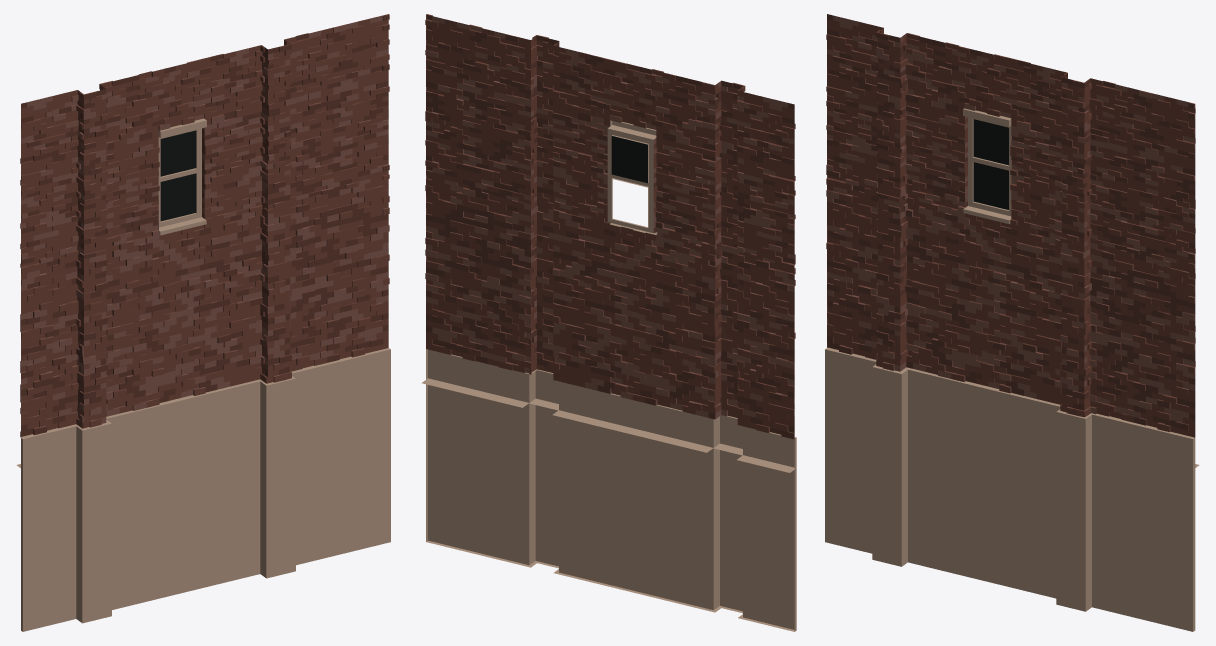
The model's file is ModularWall__Window.fbx.
3 renders of one model, left to right at view 1: azimuth 30°, elevation 25°; view 2: azimuth 150°, elevation 25°; view 3: azimuth 330°, elevation 25°, orthographic.
Parts seen in each view (by area): view 1: ModularWall._Window; view 2: ModularWall._Window; view 3: ModularWall._Window.
Part boxes in pixels (<box>): ModularWall._Window: <box>16,14,390,631</box>; ModularWall._Window: <box>421,14,796,631</box>; ModularWall._Window: <box>825,14,1199,631</box>.
Bounding box in the file's own units: 951 × 1300 × 66.76.
